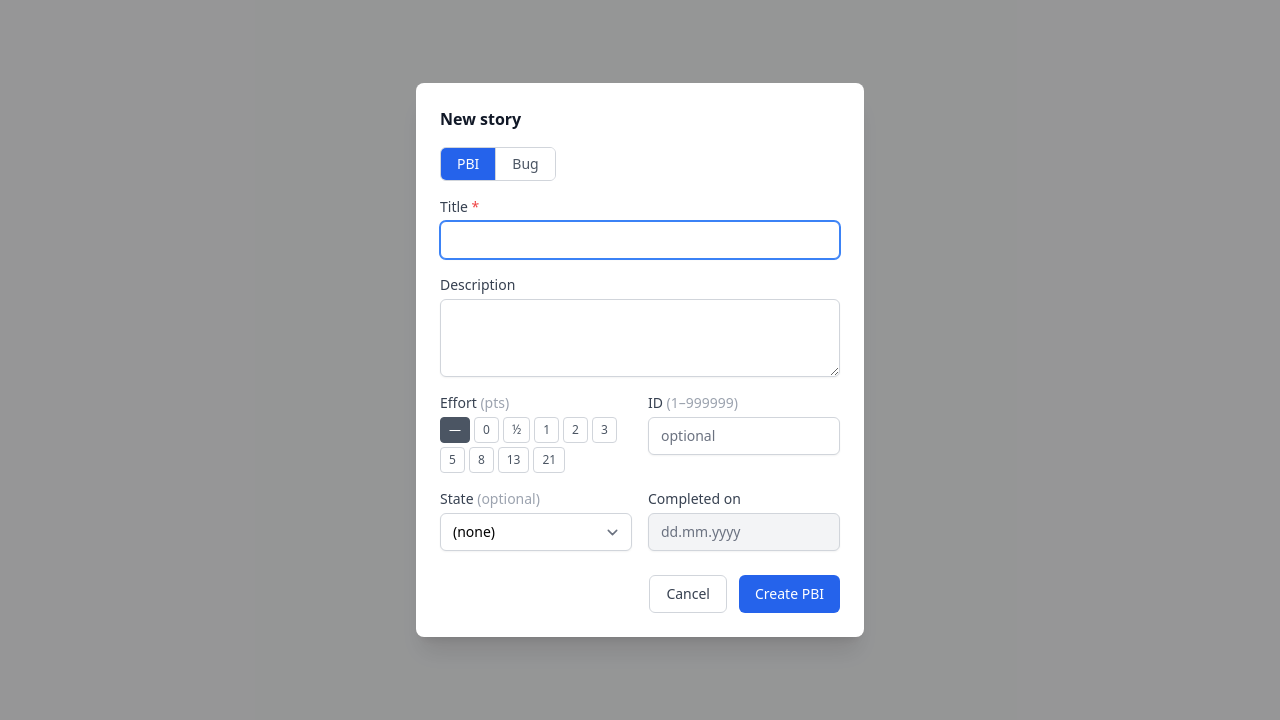
Scenario: PBIFormModal › clicking Bug toggle changes the type label to Bug
Click the button "Bug" at (525, 164), box [495,148,555,180]
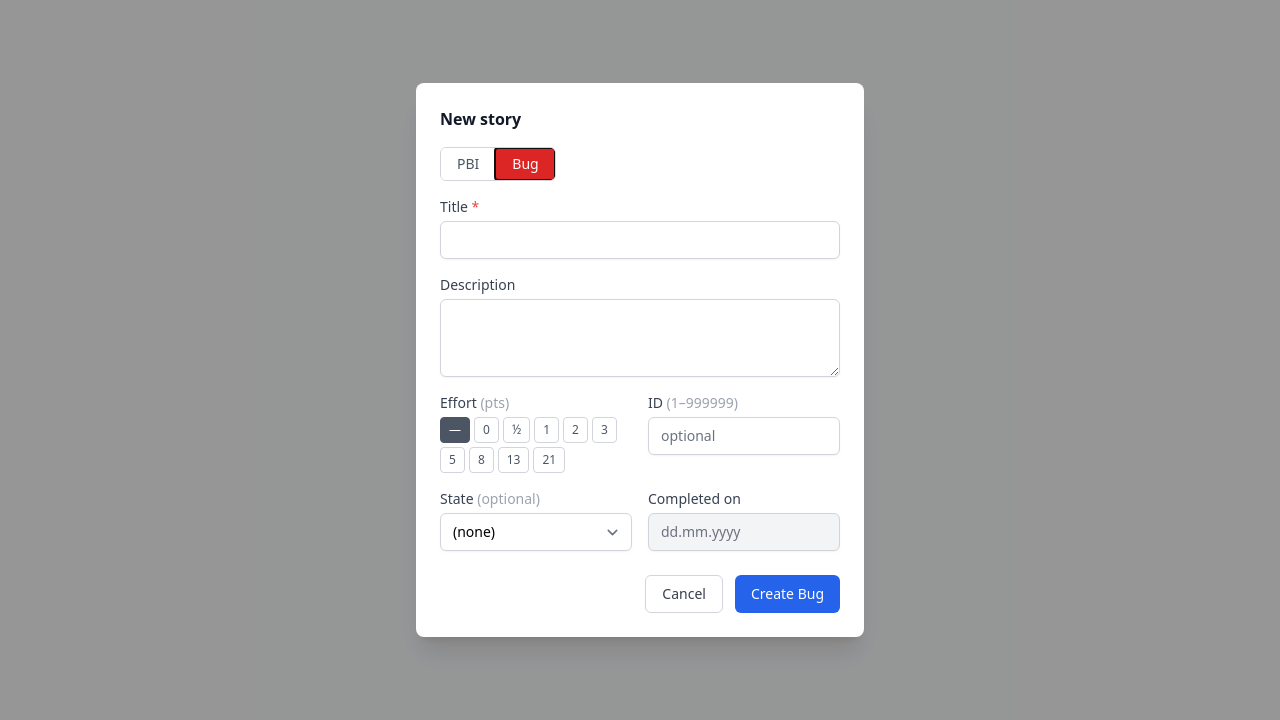
Now the button "Create Bug" is shown, box [735,575,840,613]
